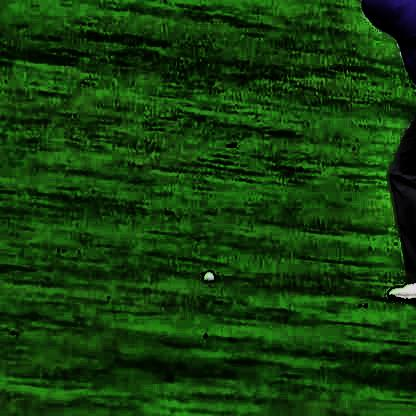golfball: (201, 270, 212, 280)
